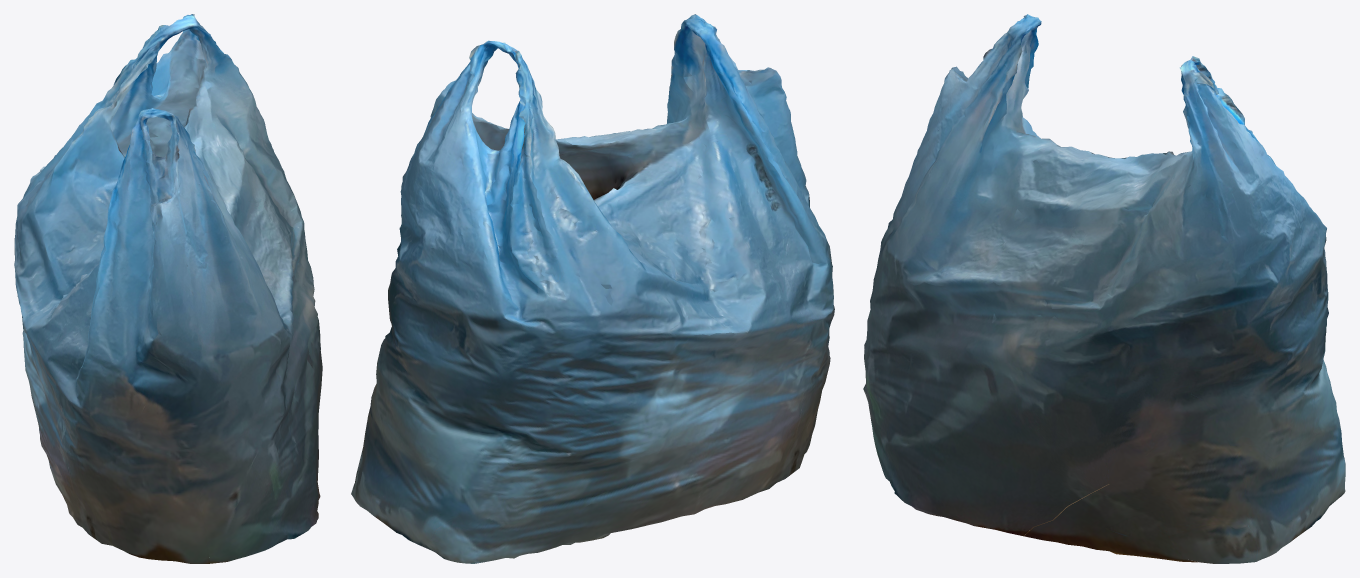
Rendered from bag.glb.
3 views of the same model, side by side, from view 1: azimuth 30°, elevation 25°; view 2: azimuth 150°, elevation 25°; view 3: azimuth 270°, elevation 25° (orthographic). The views are drawn at different scales.
Visible parts, largest first — view 1: Object_4; view 2: Object_4; view 3: Object_4.
Boxes of the visible parts, x1,y1,x2,y2 form: Object_4: (14,14,322,563); Object_4: (351,14,834,563); Object_4: (863,14,1345,563).
Size of the model in its own units: 0.5908 by 0.7433 by 0.7305.
1 material, 1 textured.
